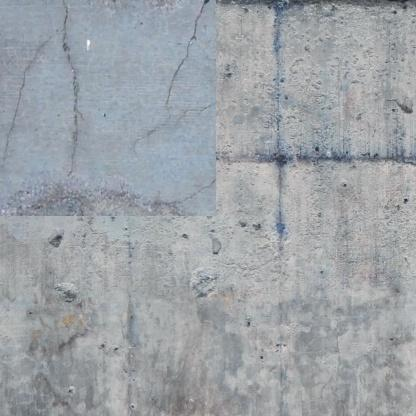Cracks: (117, 0, 200, 148), (0, 28, 52, 148), (52, 0, 79, 167), (128, 159, 199, 198)
